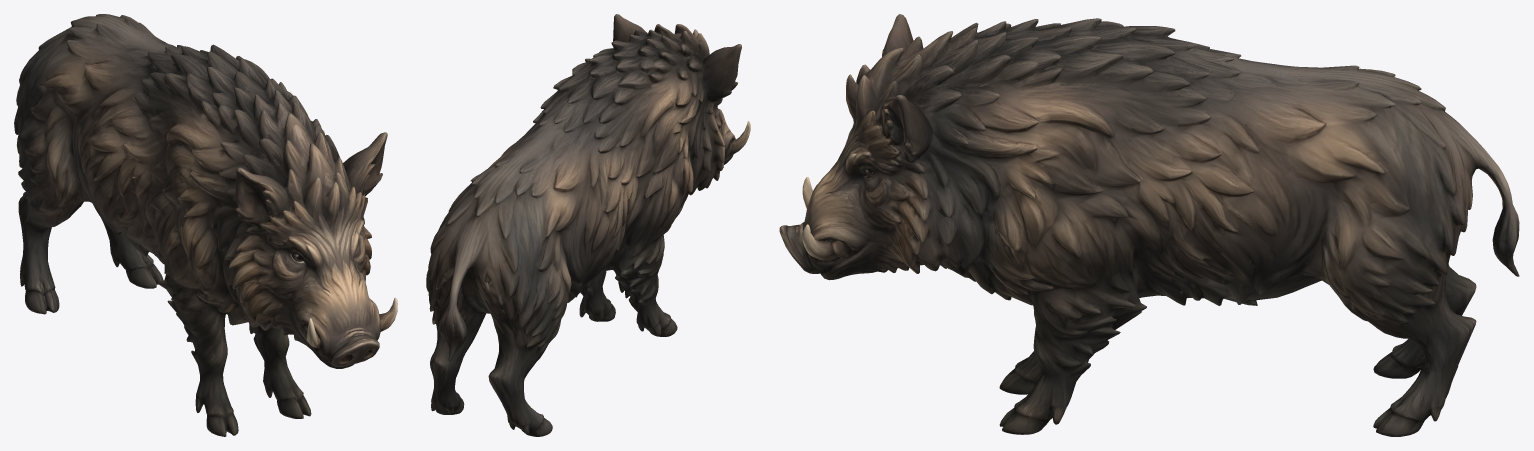
Rendered from boar__wild-boar.glb.
3 views of the same model, side by side, from view 1: azimuth 30°, elevation 25°; view 2: azimuth 150°, elevation 25°; view 3: azimuth 270°, elevation 25° (orthographic). The views are drawn at different scales.
Parts seen in each view (by area): view 1: Mesh_0; view 2: Mesh_0; view 3: Mesh_0.
Part boxes in pixels (<box>): Mesh_0: <box>14,14,397,436</box>; Mesh_0: <box>426,14,750,436</box>; Mesh_0: <box>779,14,1519,436</box>.
Size of the model in its own units: 0.509 by 1.08 by 1.9.
Materials: 1 (1 with a texture image).
